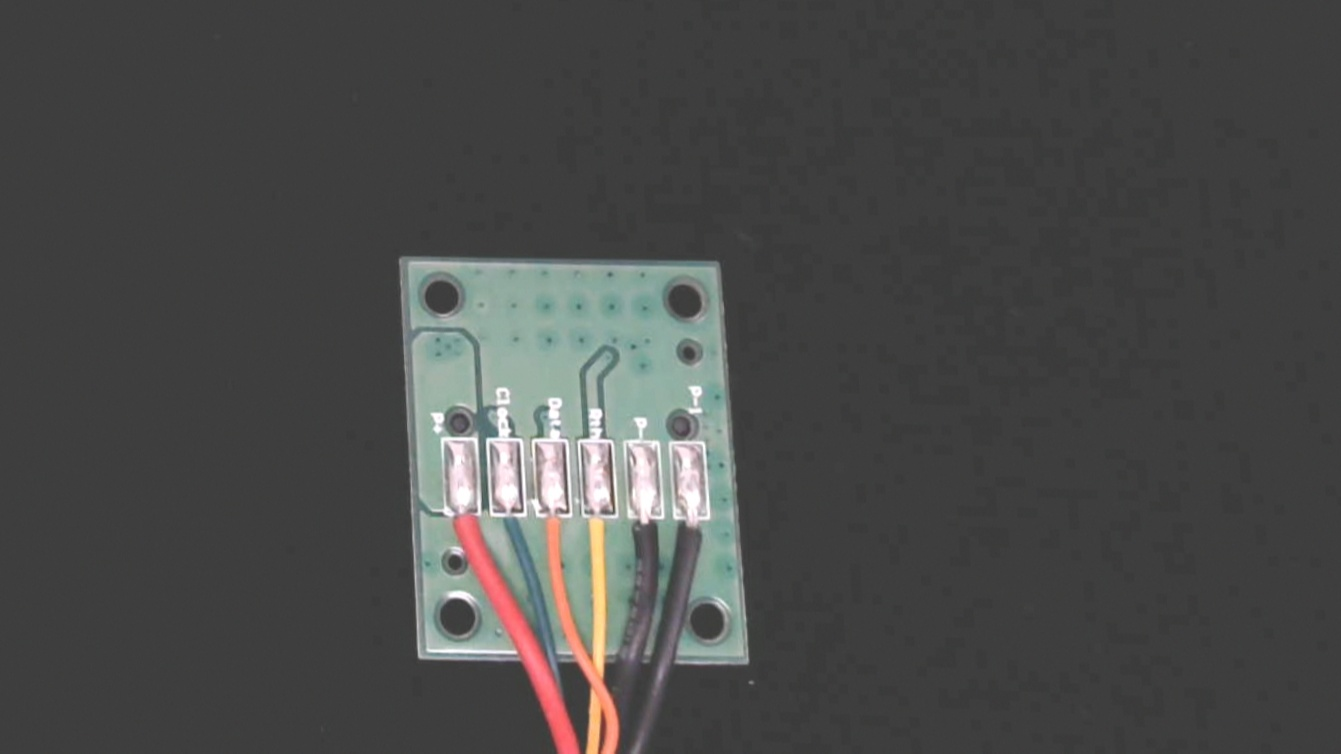Black: (626, 497, 672, 589)
Black1: (673, 498, 717, 583)
Green: (492, 493, 534, 572)
Orange: (533, 497, 576, 587)
Red: (441, 495, 485, 582)
Yellow: (578, 496, 623, 589)
